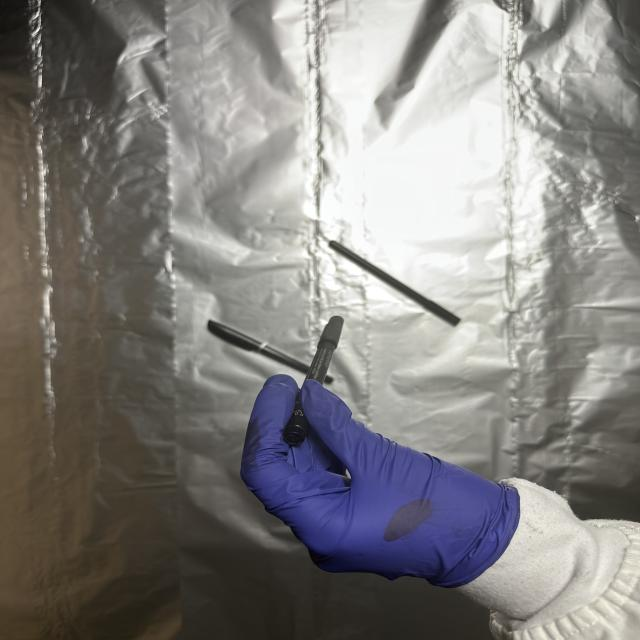gloves_contaminated: (241, 376, 520, 588)
